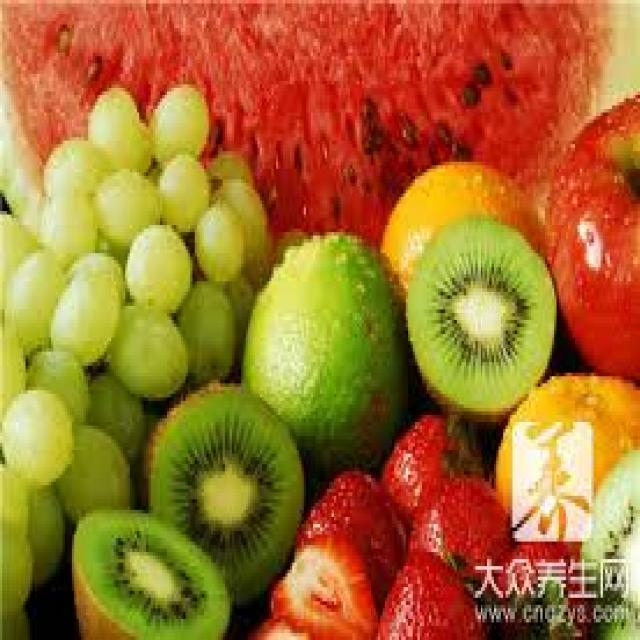organic waste: (0, 0, 637, 636), (0, 0, 638, 271), (241, 228, 408, 474), (139, 376, 304, 605), (406, 214, 554, 418), (542, 88, 638, 376), (492, 369, 638, 545), (378, 155, 545, 302), (70, 506, 230, 636), (403, 439, 508, 602), (292, 460, 404, 598), (380, 408, 482, 527), (269, 528, 376, 636), (374, 542, 496, 636), (580, 446, 638, 636), (501, 528, 589, 636), (102, 299, 188, 394), (46, 250, 120, 358), (56, 422, 132, 513), (0, 387, 70, 485), (176, 278, 234, 380), (125, 222, 190, 313), (2, 246, 60, 341), (90, 162, 160, 239), (84, 366, 142, 457), (207, 172, 264, 257), (148, 81, 206, 162), (25, 348, 86, 419), (197, 197, 246, 281), (86, 84, 137, 162), (30, 190, 95, 250), (158, 151, 206, 229), (26, 482, 60, 580), (42, 134, 97, 194), (0, 517, 30, 605), (0, 324, 23, 429), (0, 211, 35, 278), (128, 398, 158, 472), (260, 222, 304, 270), (204, 148, 250, 186), (0, 461, 28, 517), (128, 112, 150, 172), (250, 612, 304, 636), (227, 268, 253, 310), (95, 225, 121, 264), (0, 605, 28, 636), (137, 155, 155, 176)
